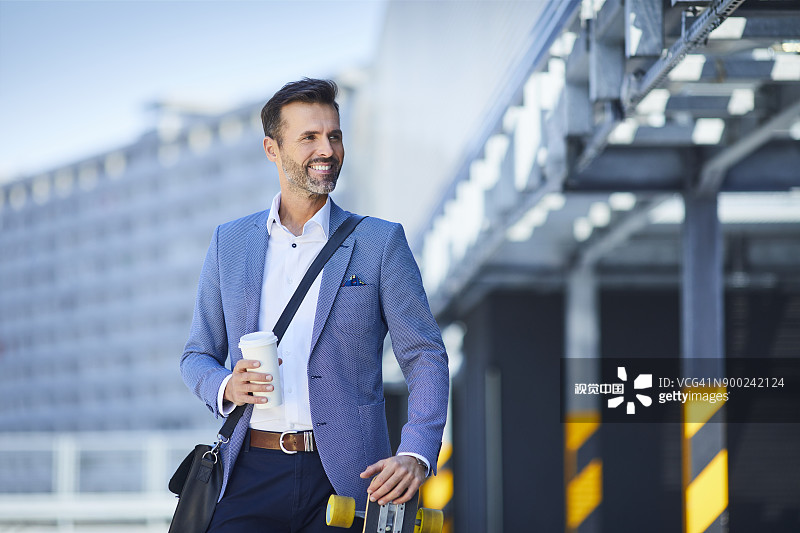no-phone: (214, 337, 290, 423), (355, 443, 435, 512)
